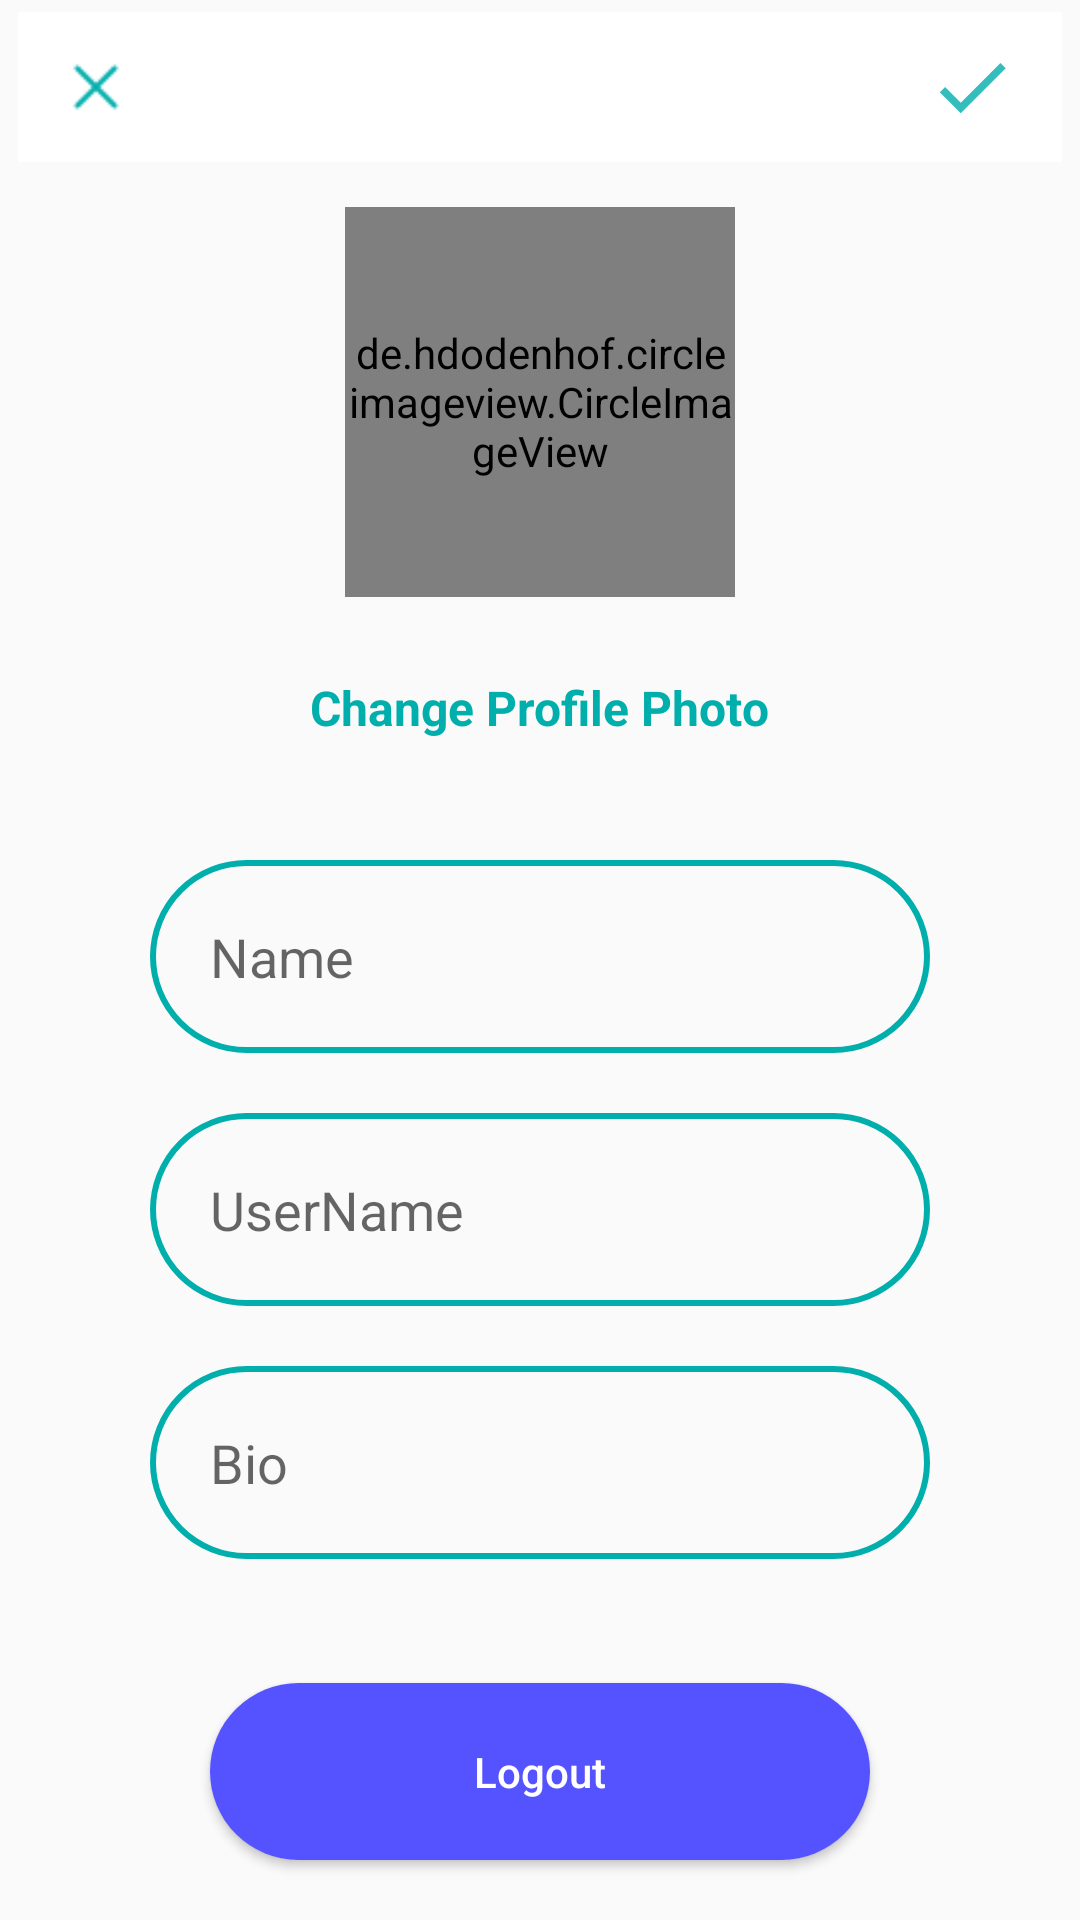

Screen size 1080x1920. Icon name, then its box in pixels as [x1, y1, x2, y2]:
cross edit profile: [73, 64, 119, 110]
save edited info: [940, 63, 1006, 113]
